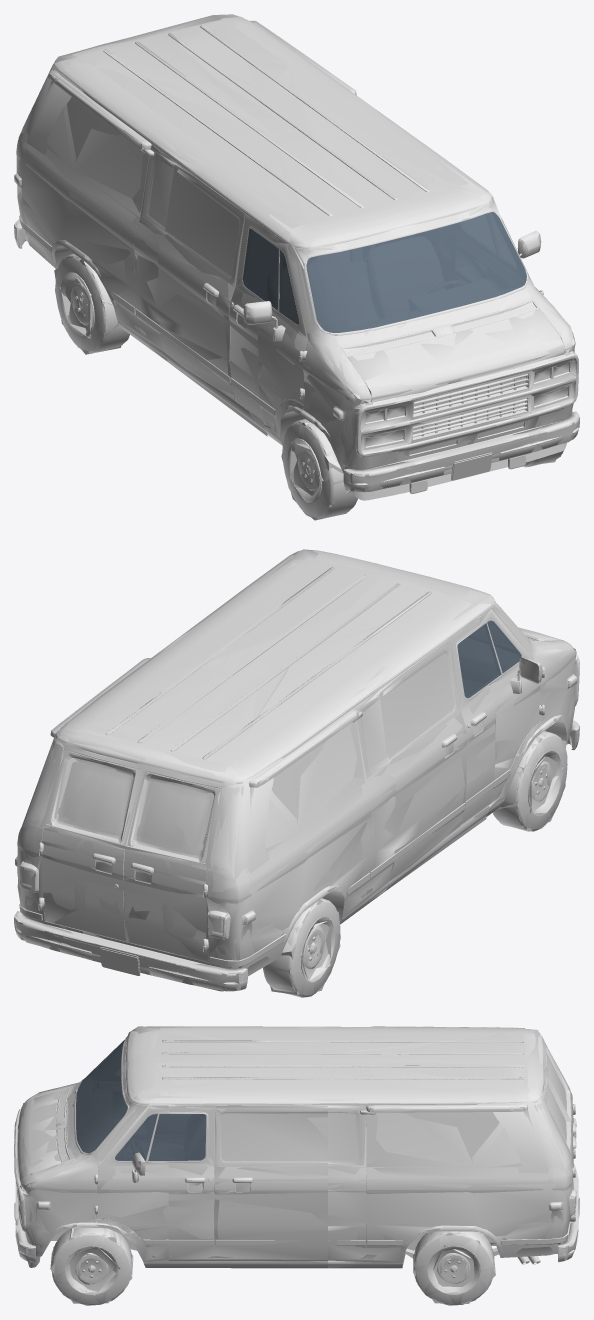
File: van.fbx
3 renders of one model, top to bottom at view 1: azimuth 30°, elevation 25°; view 2: azimuth 150°, elevation 25°; view 3: azimuth 270°, elevation 25°, orthographic. The views are drawn at different scales.
Parts seen in each view (by area): view 1: Body, LOD1_Body, LOD2_Body, LOD3_Body, LOD3_Door_FR, Door_FR, LOD1_Door_FR, Wheel_FR, Wheel_RR, LOD2_Door_FR, LOD1_Wheel_FR, LOD1_Wheel_RR (+2 smaller); view 2: Body, LOD2_Body, LOD1_Body, LOD3_Body, LOD3_Door_FR, Door_FR, LOD1_Door_FR, Wheel_RR, Wheel_FR, LOD2_Door_FR, LOD1_Wheel_FR, LOD1_Wheel_RR (+2 smaller); view 3: Body, LOD3_Body, LOD1_Body, LOD2_Body, LOD3_Door_FL, Door_FL, LOD1_Door_FL, LOD2_Door_FL, Wheel_RL, Wheel_FL, LOD1_Wheel_RL, LOD1_Wheel_FL (+2 smaller).
Part boxes in pixels (<box>): Body: <box>14,17,579,500</box>; LOD1_Body: <box>14,17,578,500</box>; LOD2_Body: <box>14,16,578,491</box>; LOD3_Body: <box>14,14,579,491</box>; LOD3_Door_FR: <box>158,166,278,436</box>; Door_FR: <box>157,169,278,433</box>; LOD1_Door_FR: <box>157,174,278,429</box>; Wheel_FR: <box>282,419,357,519</box>; Wheel_RR: <box>55,254,129,353</box>; LOD2_Door_FR: <box>164,217,278,435</box>; LOD1_Wheel_FR: <box>282,419,355,518</box>; LOD1_Wheel_RR: <box>55,256,129,353</box>; Body: <box>14,550,579,991</box>; LOD2_Body: <box>15,551,579,991</box>; LOD1_Body: <box>15,552,579,990</box>; LOD3_Body: <box>14,549,579,991</box>; LOD3_Door_FR: <box>379,621,498,888</box>; Door_FR: <box>382,621,501,886</box>; LOD1_Door_FR: <box>380,624,500,885</box>; Wheel_RR: <box>263,898,340,997</box>; Wheel_FR: <box>493,731,567,831</box>; LOD2_Door_FR: <box>381,624,495,890</box>; LOD1_Wheel_FR: <box>493,733,567,831</box>; LOD1_Wheel_RR: <box>263,900,340,997</box>; Body: <box>14,1026,579,1268</box>; LOD3_Body: <box>15,1026,578,1263</box>; LOD1_Body: <box>14,1026,579,1268</box>; LOD2_Body: <box>15,1026,579,1268</box>; LOD3_Door_FL: <box>154,1109,327,1260</box>; Door_FL: <box>148,1108,327,1267</box>; LOD1_Door_FL: <box>148,1109,327,1264</box>; LOD2_Door_FL: <box>156,1112,327,1268</box>; Wheel_RL: <box>413,1231,494,1305</box>; Wheel_FL: <box>51,1227,132,1305</box>; LOD1_Wheel_RL: <box>414,1231,494,1305</box>; LOD1_Wheel_FL: <box>52,1228,132,1305</box>.
Bounding box in the file's own units: 2.4 × 1.97 × 5.
